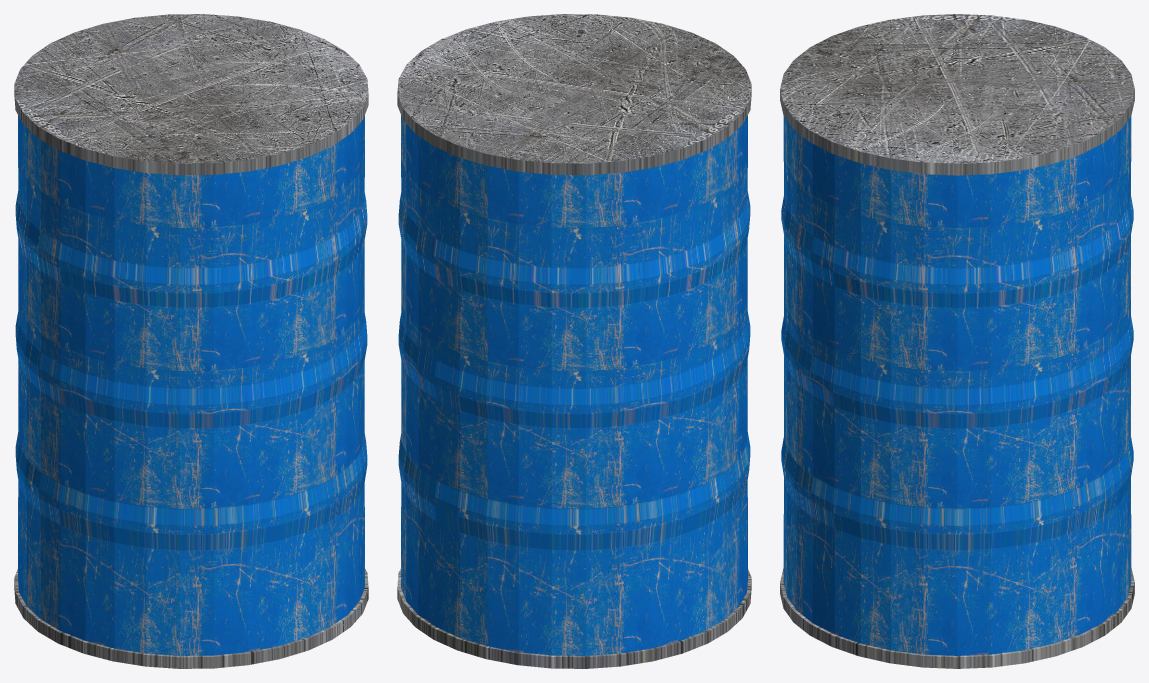
File: barrel3.fbx
3 views of the same model, side by side, from view 1: azimuth 30°, elevation 25°; view 2: azimuth 150°, elevation 25°; view 3: azimuth 270°, elevation 25° (orthographic).
Parts seen in each view (by area): view 1: Cylinder.002; view 2: Cylinder.002; view 3: Cylinder.002.
Part boxes in pixels (bbox=[...]): Cylinder.002: bbox=[14, 14, 368, 668]; Cylinder.002: bbox=[397, 14, 751, 668]; Cylinder.002: bbox=[780, 14, 1134, 668].
Bounding box in the file's own units: 281 × 441 × 281.
